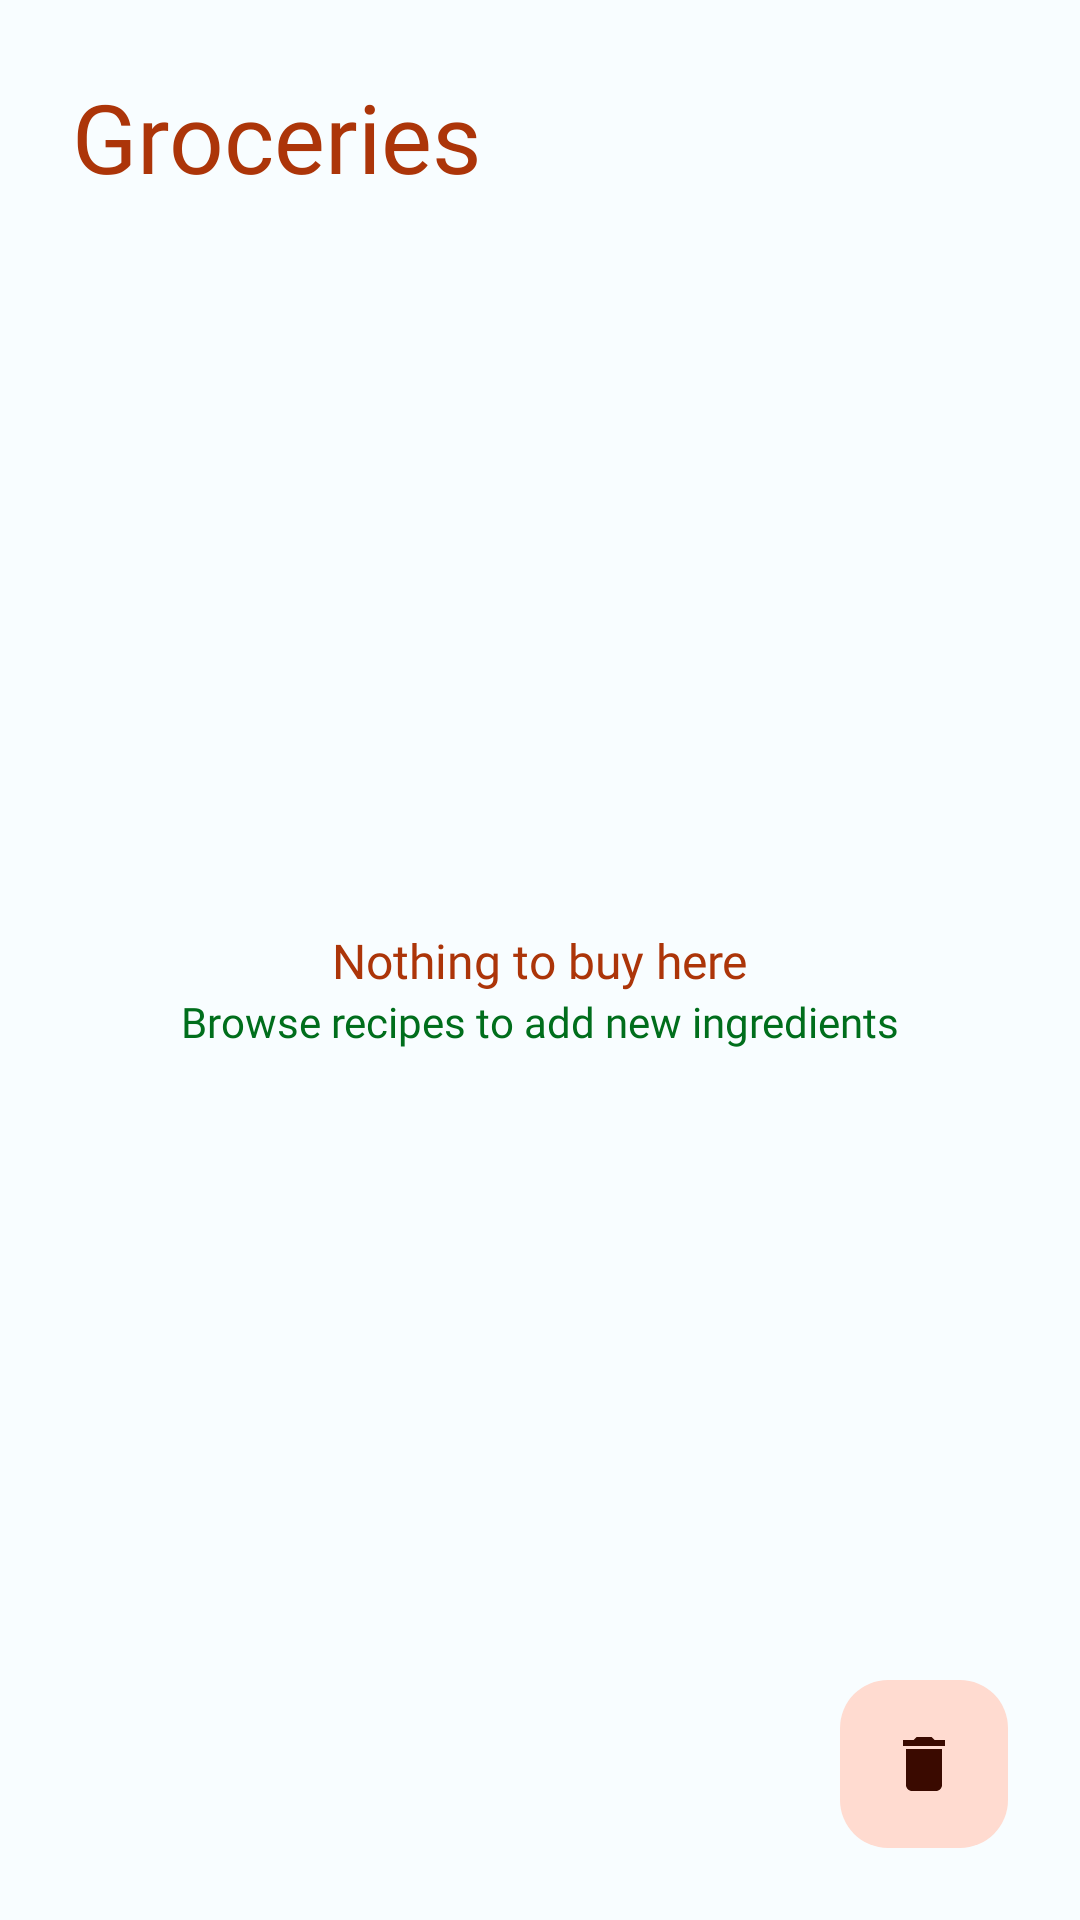

Icon click points for this 1080px×1920px phone screenshot, format (x=x, y=y):
delete button: (x=924, y=1764)
